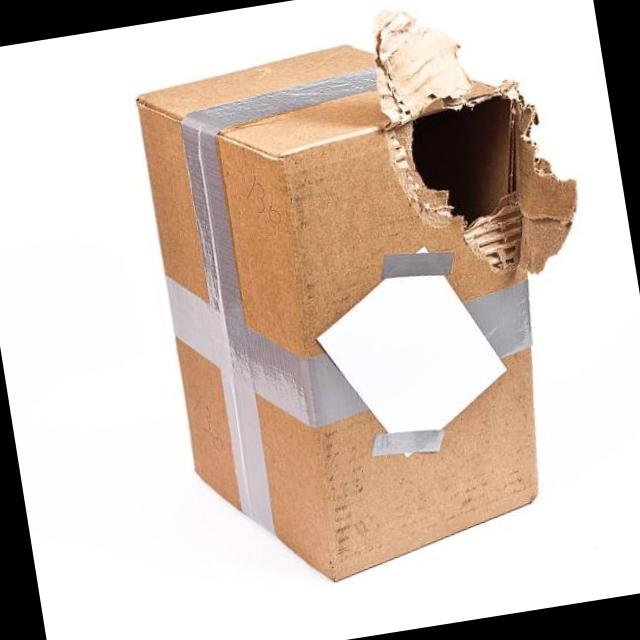box: (136, 8, 579, 582)
tear: (373, 6, 579, 278)
